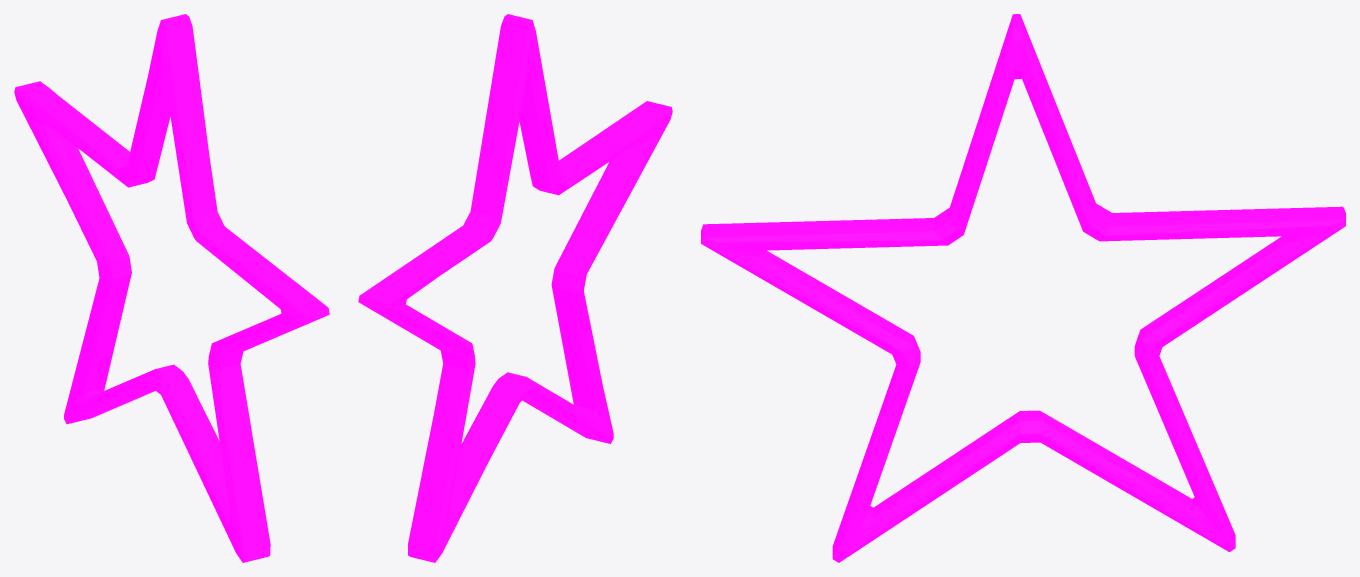
File: star_lamp_loading.glb
3 views of the same model, side by side, from view 1: azimuth 30°, elevation 25°; view 2: azimuth 150°, elevation 25°; view 3: azimuth 270°, elevation 25° (orthographic). The views are drawn at different scales.
Parts seen in each view (by area): view 1: Star Lamp; view 2: Star Lamp; view 3: Star Lamp.
Boxes of the visible parts, bbox=[...] form: Star Lamp: bbox=[14, 14, 329, 562]; Star Lamp: bbox=[358, 14, 672, 562]; Star Lamp: bbox=[701, 14, 1345, 562].
Size of the model in its own units: 1.29 by 18.81 by 20.52.
Materials: 1 (1 with a texture image).
